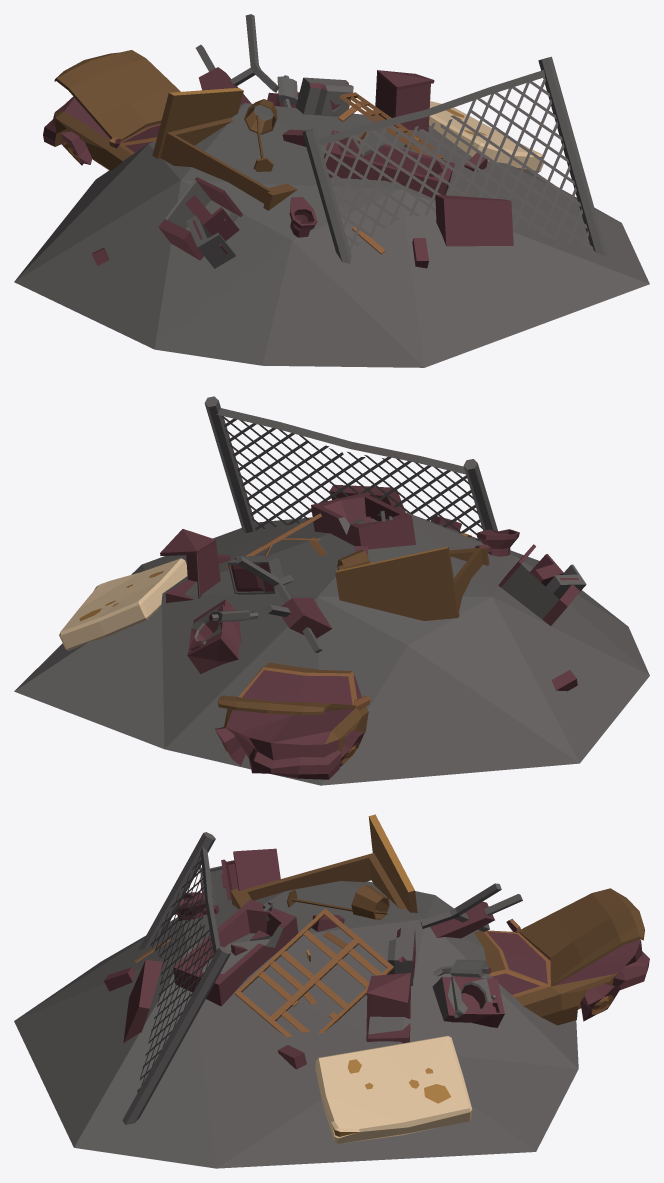
File: rubble-big-apocalypse.fbx
3 renders of one model, top to bottom at view 1: azimuth 30°, elevation 25°; view 2: azimuth 150°, elevation 25°; view 3: azimuth 270°, elevation 25°, orthographic. The views are drawn at different scales.
Parts seen in each view (by area): view 1: rubble-big-apocalypse; view 2: rubble-big-apocalypse; view 3: rubble-big-apocalypse.
Boxes of the visible parts, x1,y1,x2,y2 form: rubble-big-apocalypse: [14, 14, 649, 367]; rubble-big-apocalypse: [14, 396, 649, 785]; rubble-big-apocalypse: [14, 814, 649, 1168].
Bounding box in the file's own units: 8.47 × 2.85 × 8.86.
